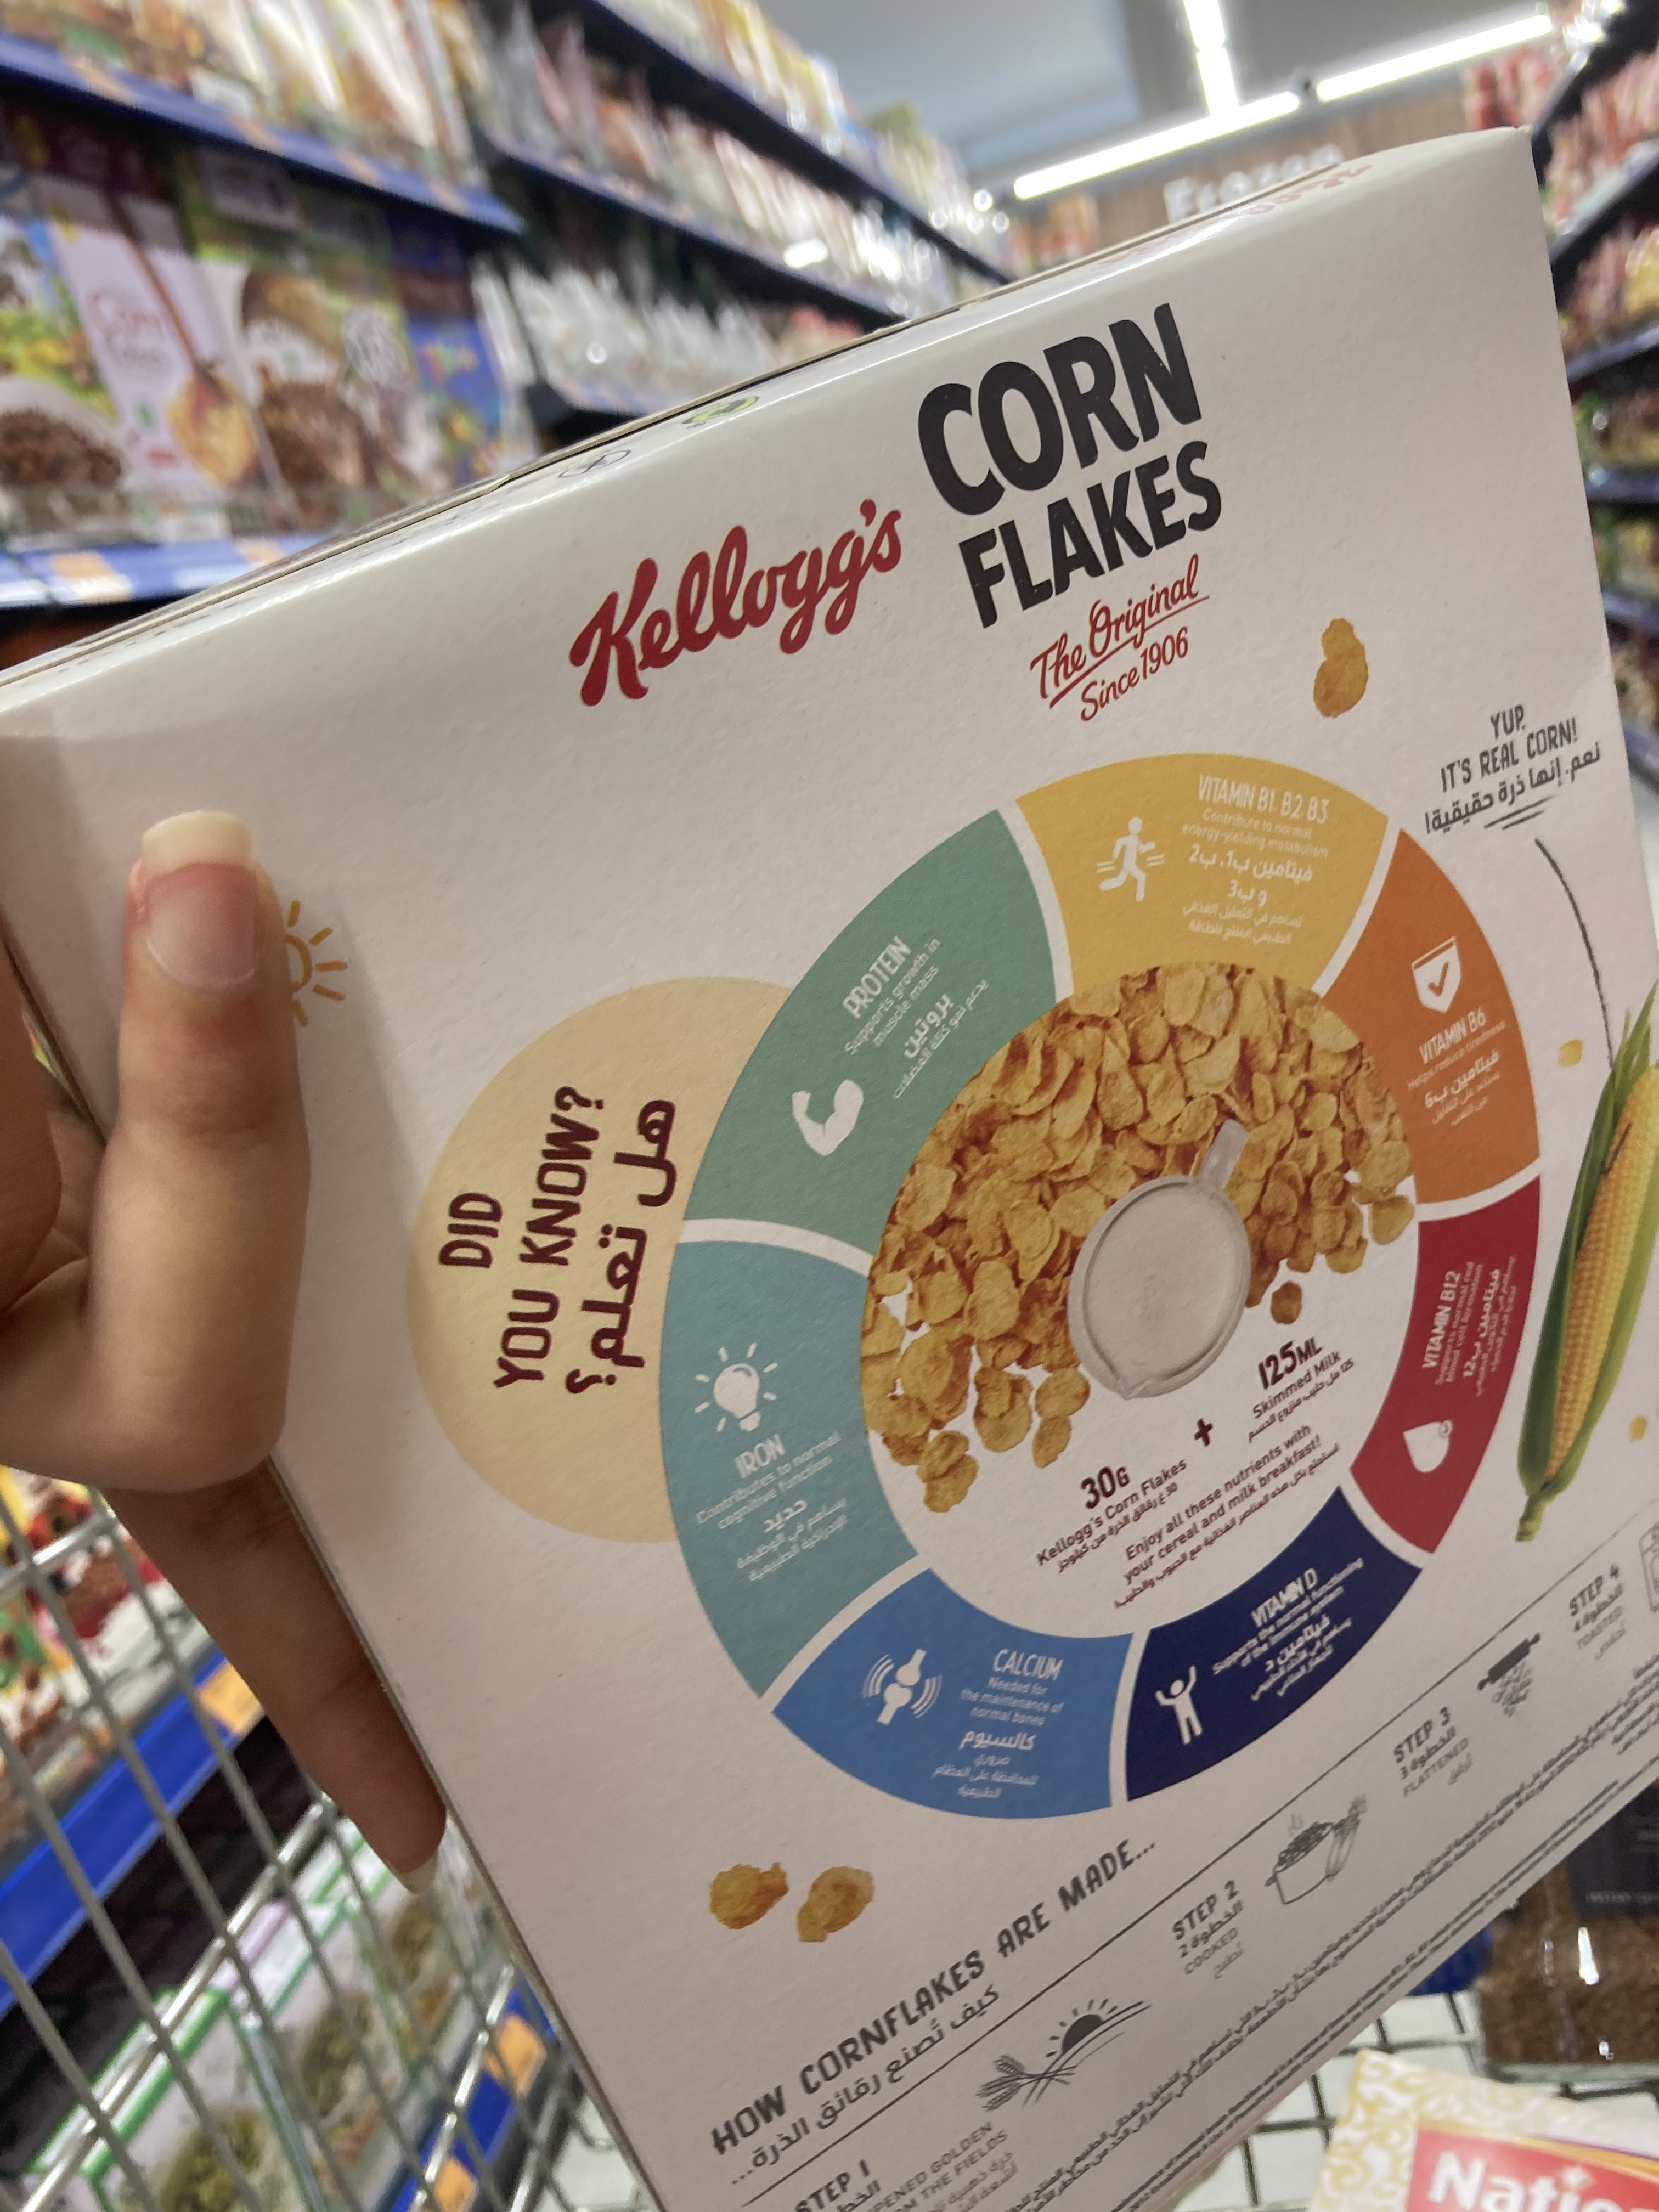Kellogg's Corn Flakes: (9, 118, 1659, 2212)
